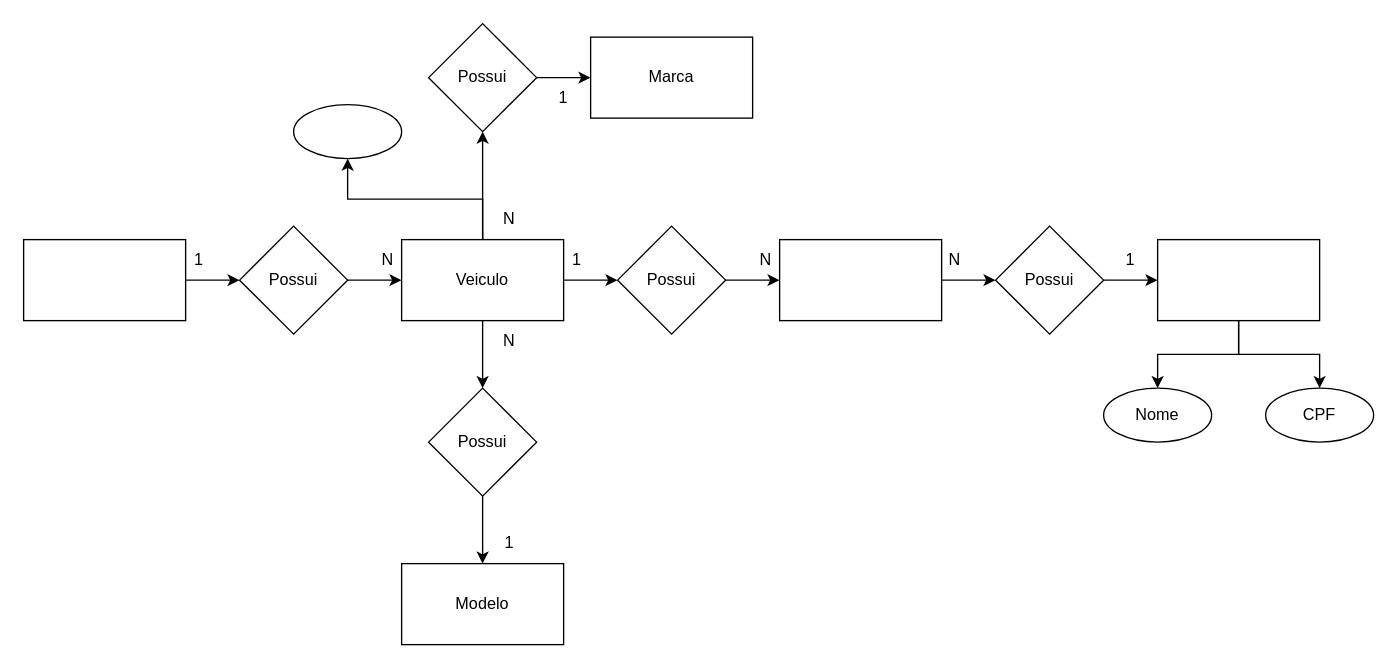
The diagram is 1397 pixels wide and 668 high, and some of its shapes have lost their labels. The shapes that lost their labels are listed below. From the top down, each one's centre as x and y in pixels, then its label:
At (x=347, y=131): "Placa".
At (x=104, y=279): "Empresa".
At (x=860, y=279): "Aluguel".
At (x=1238, y=279): "Cliente".
